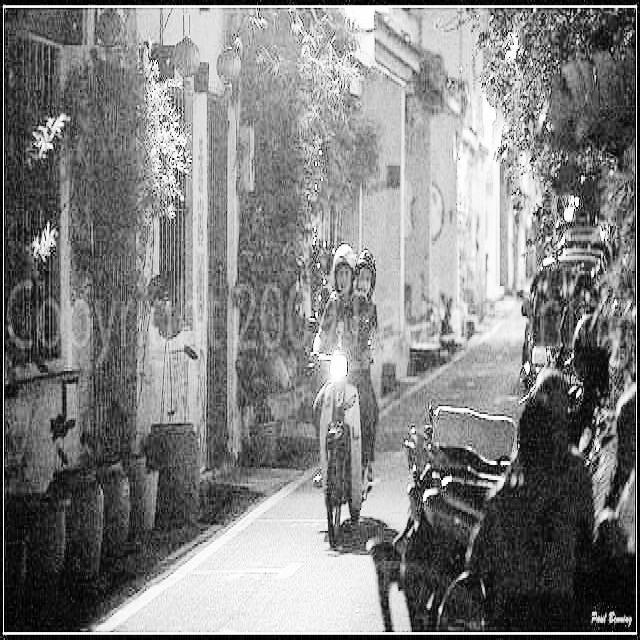Motorcycle: (379, 394, 588, 622), (294, 361, 395, 527)
